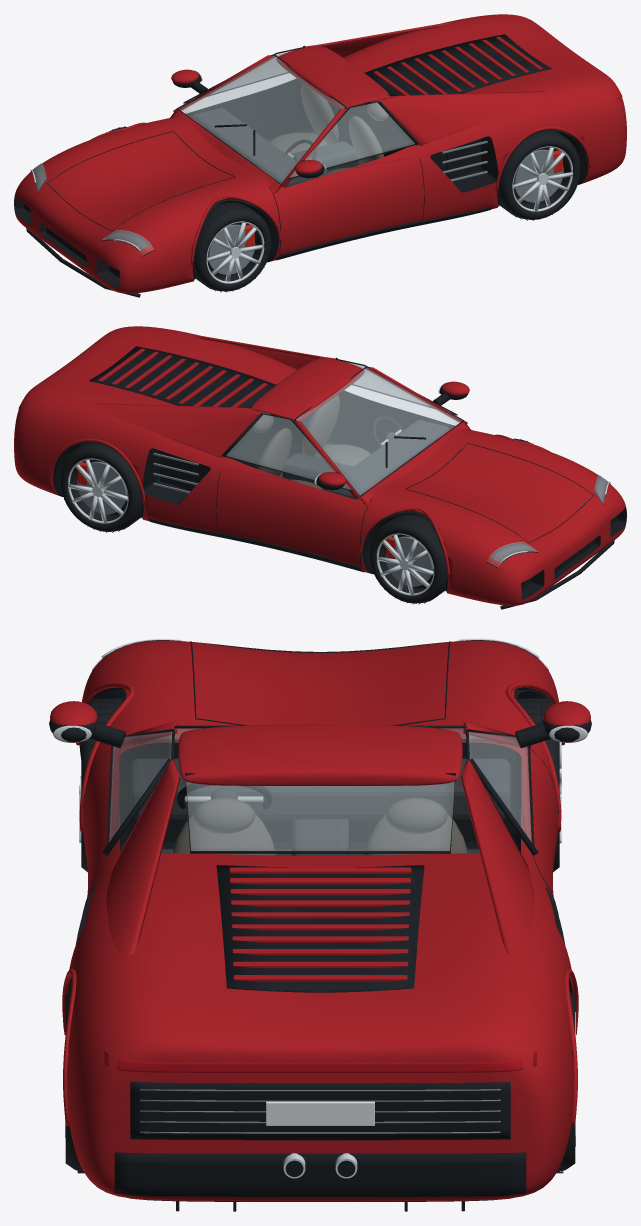
Rendered from classic.glb.
The picture shows the model from 3 angles, top to bottom: view 1: azimuth 30°, elevation 25°; view 2: azimuth 150°, elevation 25°; view 3: azimuth 270°, elevation 25°; orthographic projection. The views are drawn at different scales.
Parts seen in each view (by area): view 1: Original mid-engine supercar sculpted body shell, Raked transparent windscreen, Separate closed door panel, Engine cover vent recess, Flying buttress sail, Canopy side door glass, Low crowned canopy roof, Separate closed door panel.001, Low-profile tyre carcass and sidewalls.002, Low-profile tyre carcass and sidewalls, Wraparound instrument panel, Reclined bucket seat back.001 (+22 smaller); view 2: Original mid-engine supercar sculpted body shell, Raked transparent windscreen, Separate closed door panel.001, Engine cover vent recess, Flying buttress sail.001, Canopy side door glass.001, Low crowned canopy roof, Low-profile tyre carcass and sidewalls.003, Low-profile tyre carcass and sidewalls.001, Separate closed door panel, Wraparound instrument panel, Reclined bucket seat back (+22 smaller); view 3: Original mid-engine supercar sculpted body shell, Rear engine-bay grille, Rear diffuser, Rear bulkhead transparent glass, Low crowned canopy roof, Engine cover vent recess, Wraparound instrument panel, Flying buttress sail.001, Flying buttress sail, Separate closed door panel, Separate closed door panel.001, Full-width tail lamp bar (+29 smaller).
Boxes of the visible parts, x1,y1,x2,y2 form: Original mid-engine supercar sculpted body shell: [14, 14, 626, 293]; Raked transparent windscreen: [179, 55, 344, 183]; Separate closed door panel: [269, 157, 424, 254]; Engine cover vent recess: [364, 34, 551, 96]; Flying buttress sail: [379, 91, 547, 145]; Canopy side door glass: [289, 102, 414, 177]; Low crowned canopy roof: [276, 46, 390, 108]; Separate closed door panel.001: [186, 82, 314, 141]; Low-profile tyre carcass and sidewalls.002: [498, 131, 580, 219]; Low-profile tyre carcass and sidewalls: [194, 202, 271, 291]; Wraparound instrument panel: [191, 108, 316, 187]; Reclined bucket seat back.001: [301, 83, 338, 144]; Original mid-engine supercar sculpted body shell: [14, 326, 626, 605]; Raked transparent windscreen: [296, 367, 461, 495]; Separate closed door panel.001: [216, 469, 371, 566]; Engine cover vent recess: [89, 346, 276, 408]; Flying buttress sail.001: [93, 403, 261, 457]; Canopy side door glass.001: [226, 414, 351, 489]; Low crowned canopy roof: [250, 358, 364, 420]; Low-profile tyre carcass and sidewalls.003: [60, 443, 142, 531]; Low-profile tyre carcass and sidewalls.001: [369, 514, 446, 603]; Separate closed door panel: [326, 394, 454, 453]; Wraparound instrument panel: [324, 420, 449, 499]; Reclined bucket seat back: [302, 395, 339, 456]; Original mid-engine supercar sculpted body shell: [66, 640, 574, 1201]; Rear engine-bay grille: [130, 1082, 510, 1140]; Rear diffuser: [114, 1152, 526, 1201]; Rear bulkhead transparent glass: [186, 781, 454, 850]; Low crowned canopy roof: [178, 724, 462, 785]; Engine cover vent recess: [216, 865, 424, 992]; Wraparound instrument panel: [130, 758, 510, 819]; Flying buttress sail.001: [460, 759, 534, 956]; Flying buttress sail: [106, 759, 180, 956]; Separate closed door panel: [82, 744, 155, 896]; Separate closed door panel.001: [485, 744, 558, 896]; Full-width tail lamp bar: [104, 1051, 536, 1072].
Bounding box in the file's own units: 4.63 × 1.19 × 2.09.
